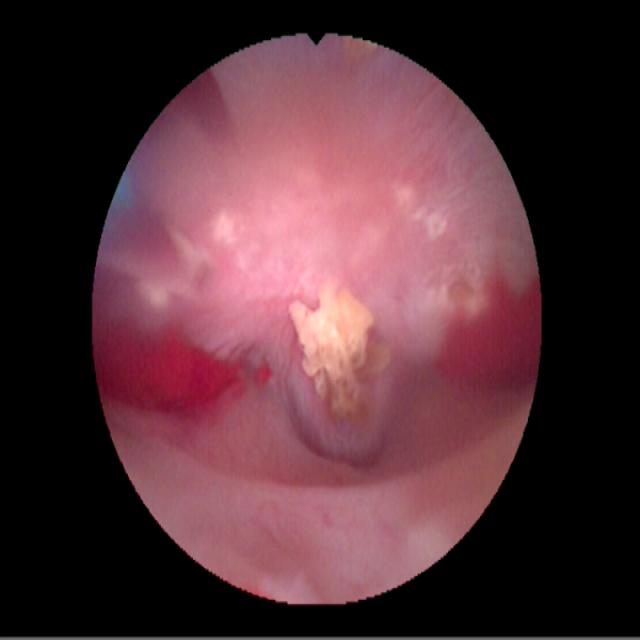stone: (292, 288, 390, 425)
tissue: (99, 41, 533, 598)
